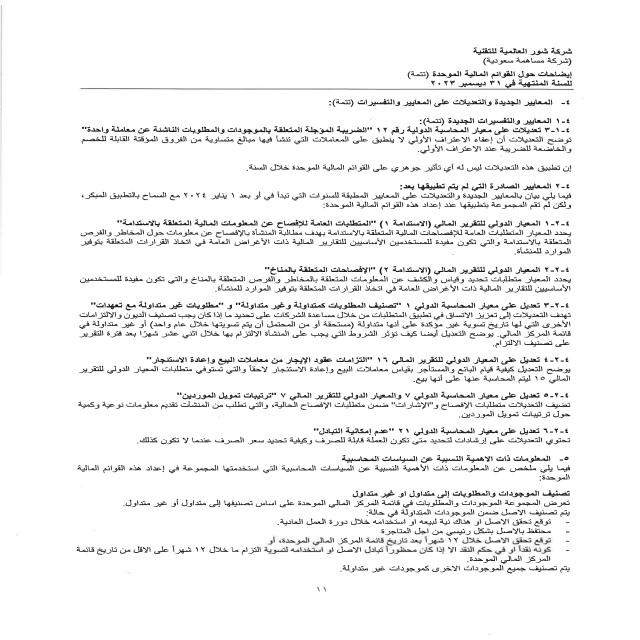notes: (404, 68, 581, 81)
text: (45, 95, 579, 601)
